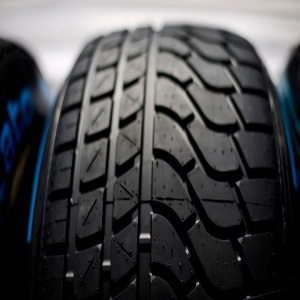train: (44, 25, 290, 299)
